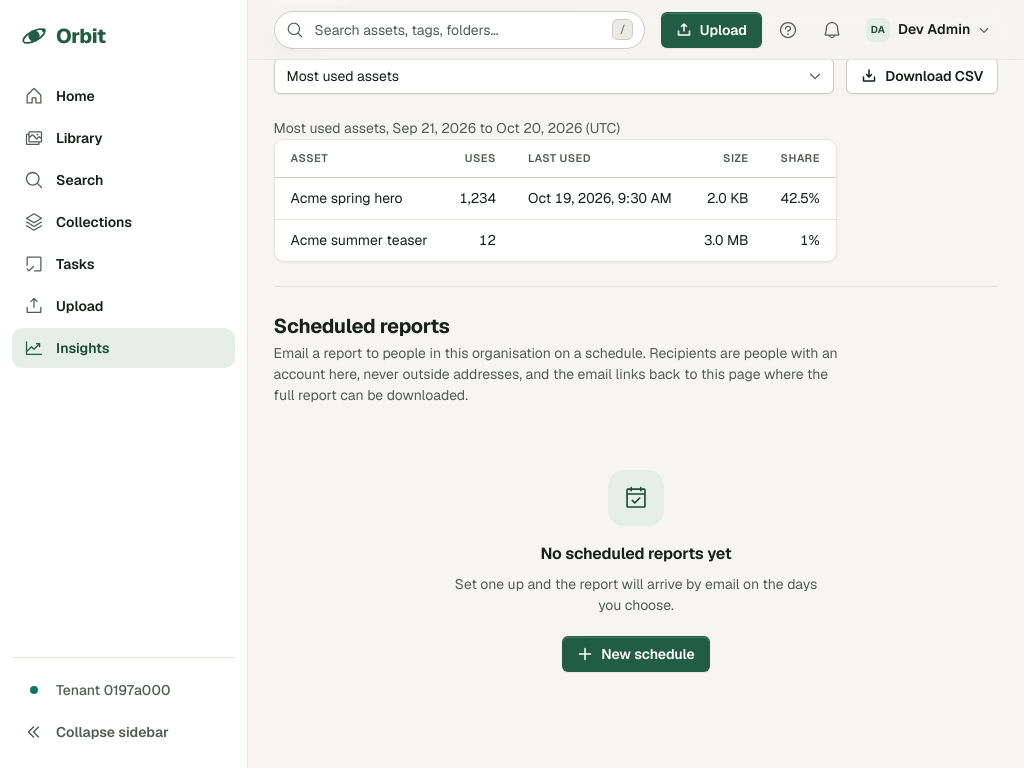
Scenario: Schedule form › creates a weekly schedule with a picked recipient and shows it in the list
(page scrolled)
Click the button "New schedule".
click(636, 654)  # box [562,636,710,672]
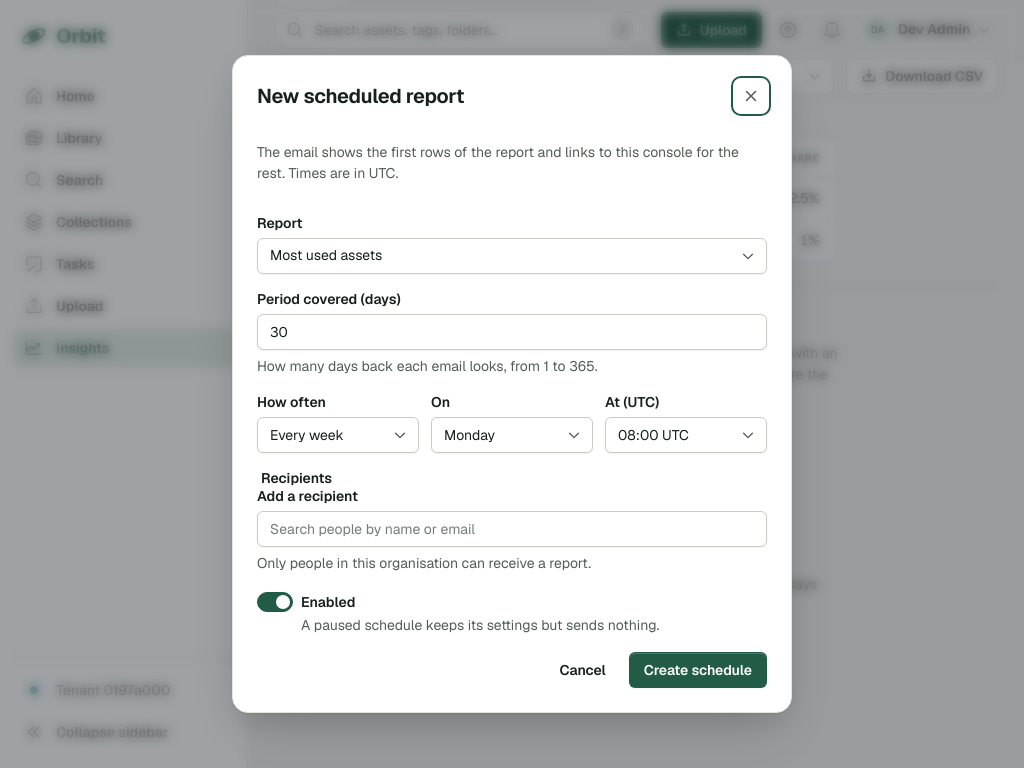
Expected: the dropdown labelled "Report" shows "Most used assets", [257,238,767,274]
Select "Friday" in the dropdown labelled "On" at x=512, y=435, box [431,417,593,453]
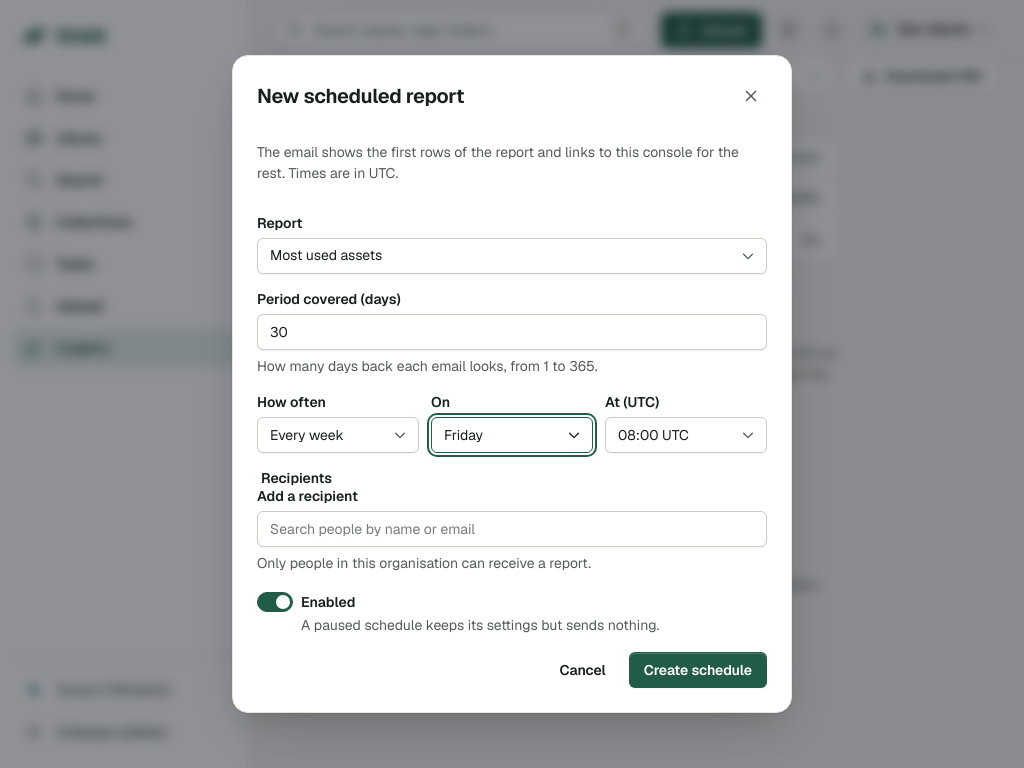
Type "ash" into the dropdown labelled "Add a recipient".
click(512, 530); type("ash")  # box [257,512,767,548]
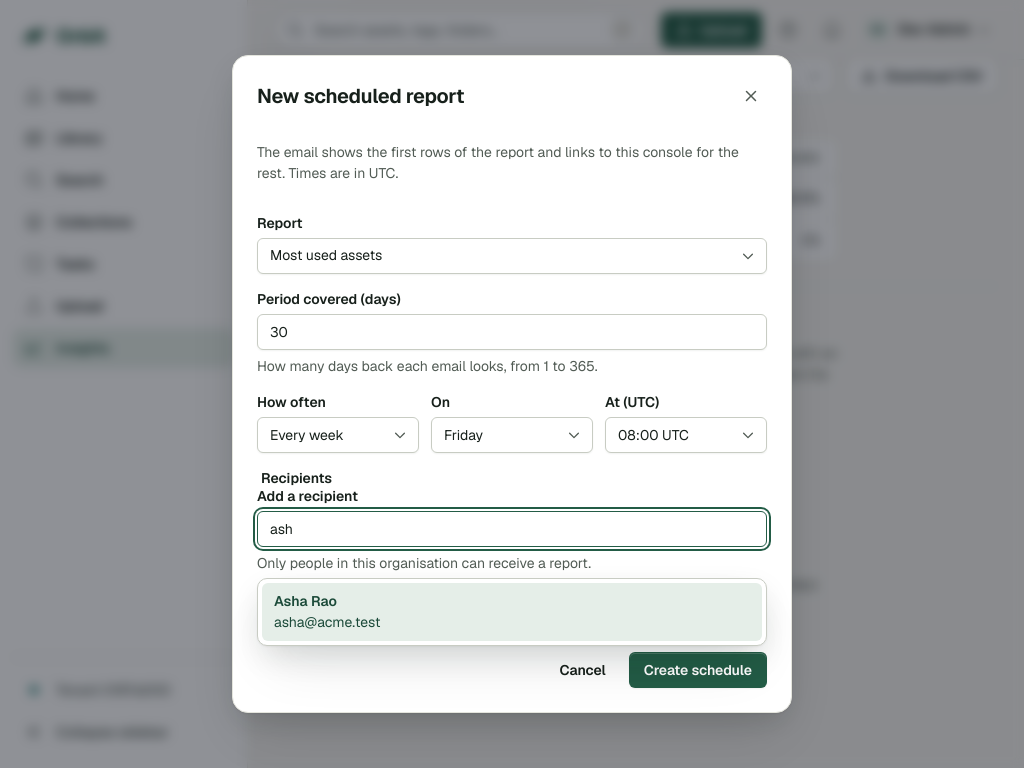
Click the option "Asha Rao asha@acme.test".
click(305, 601)  # box [262,584,762,642]
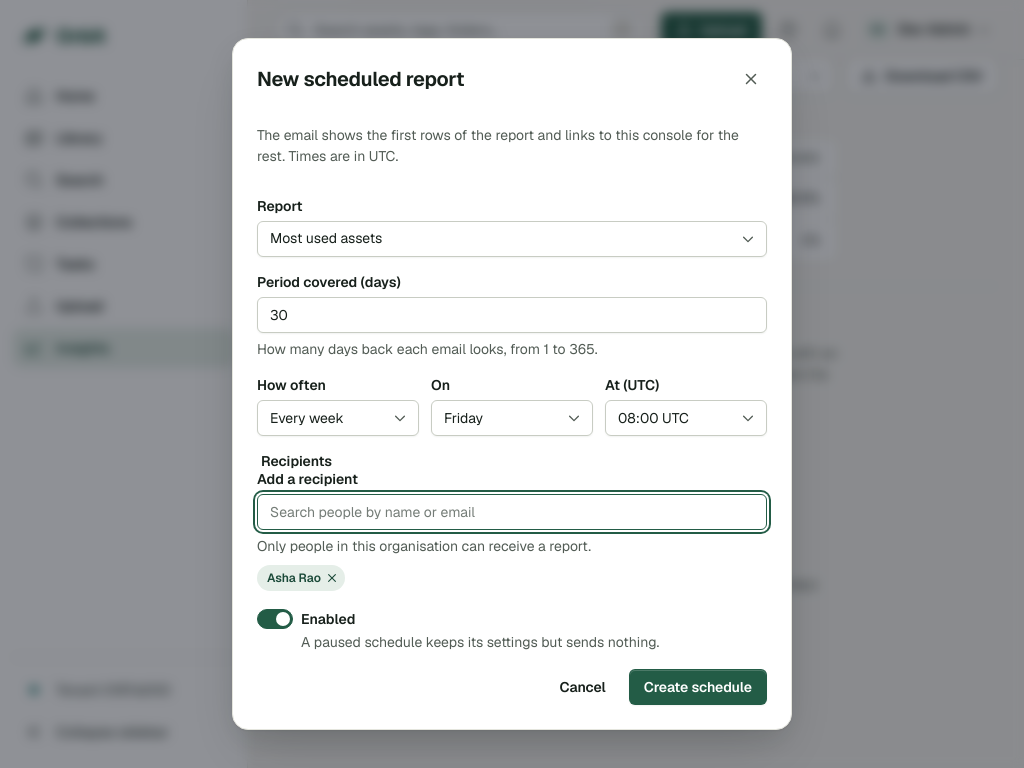
Expected: the text "Asha Rao" is shown, [267,572,321,584]
Click the button "Create schedule".
click(698, 688)  # box [629,670,767,706]
(page scrolled)
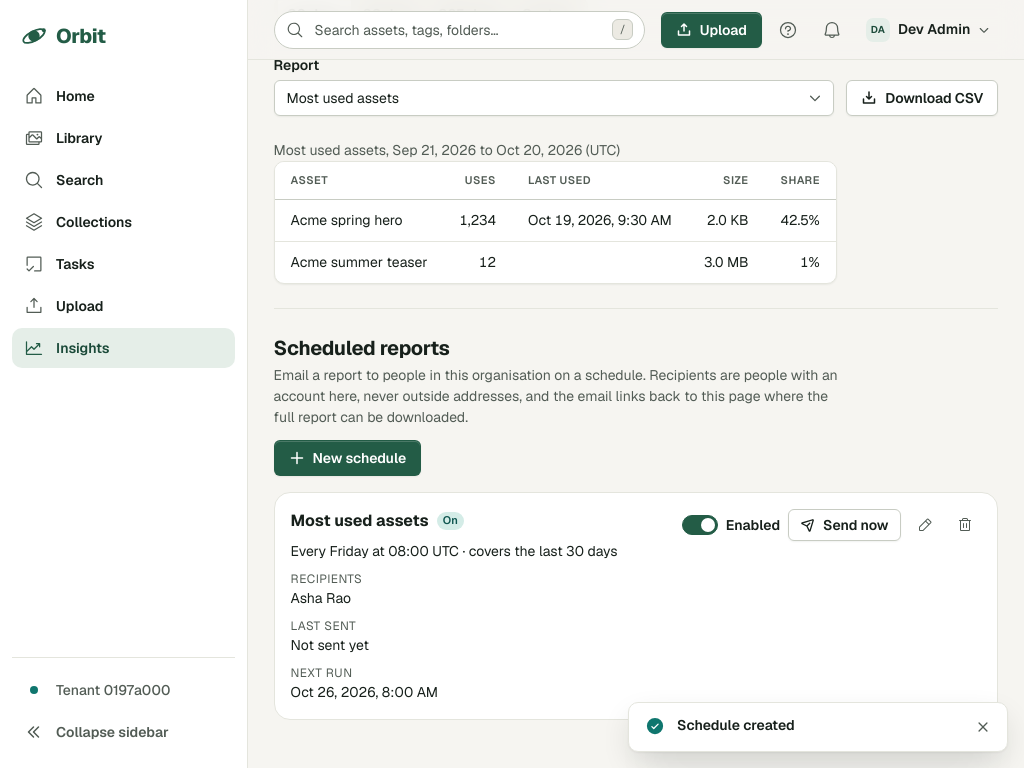
Expected: the text "Schedule created" is shown, [677,716,795,734]
Expected: the text "Every Friday at 08:00 UTC · covers the last 30 days" is shown, [291,541,658,562]
Expected: the dialog is gone
